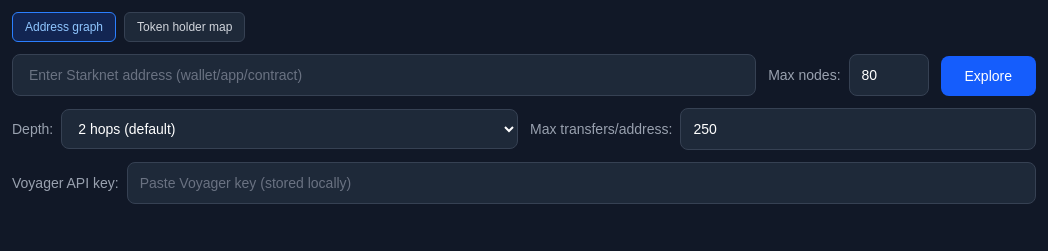
Test: TokenInput › shows validation error for invalid address on submit
This screenshot has width=1048, height=251.
In the field with placeholder "Enter Starknet address (wallet/app/contract)": {"x": 384, "y": 75} [12,54,756,96], type "not-an-address"
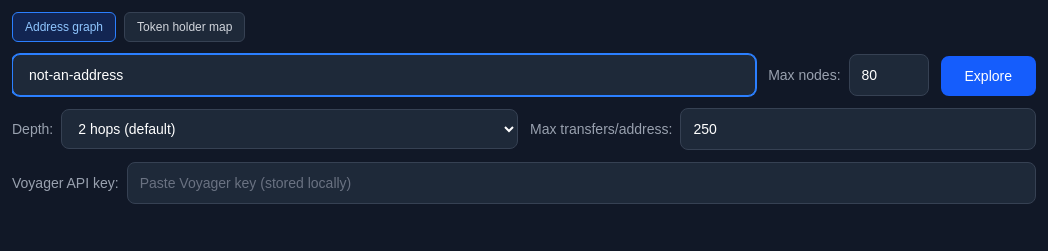
Click the button "Explore": {"x": 988, "y": 76} [940,56,1036,96]
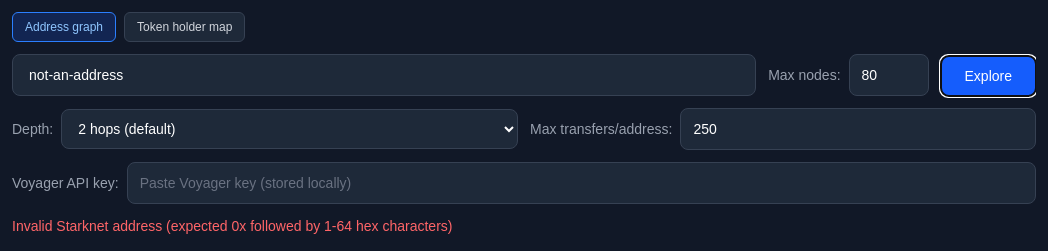
Now the text "Invalid Starknet address" is shown, box [12,218,452,234]
